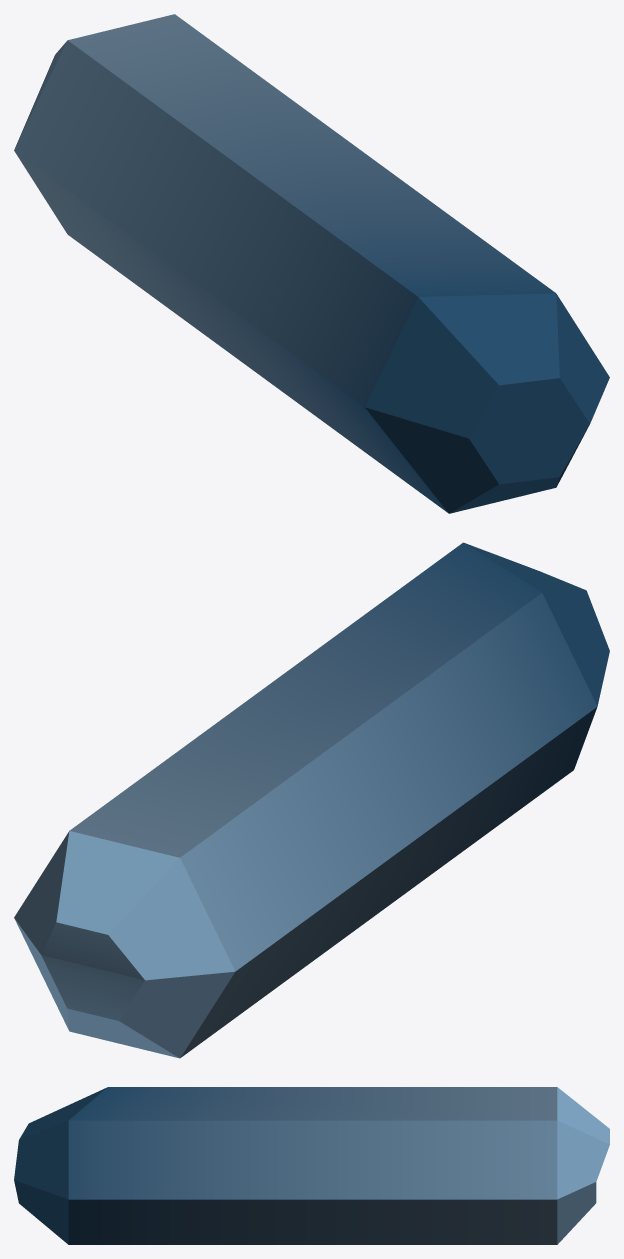
The model's file is IceCrystal.008.glb.
3 views of the same model, one above another, from view 1: azimuth 30°, elevation 25°; view 2: azimuth 150°, elevation 25°; view 3: azimuth 270°, elevation 25° (orthographic). The views are drawn at different scales.
Visible parts, largest first — view 1: IceCrystal.008; view 2: IceCrystal.008; view 3: IceCrystal.008.
Part boxes in pixels (x1,y1,x2,y2): IceCrystal.008: (14, 14, 609, 513); IceCrystal.008: (14, 542, 609, 1058); IceCrystal.008: (14, 1087, 609, 1244).
Bounding box in the file's own units: 148 × 128 × 556.
